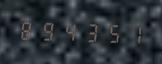eight: (17, 17, 37, 42)
five: (102, 20, 122, 45)
four: (60, 19, 80, 43)
nine: (38, 18, 58, 43)
one: (123, 21, 143, 46)
three: (81, 20, 101, 44)
